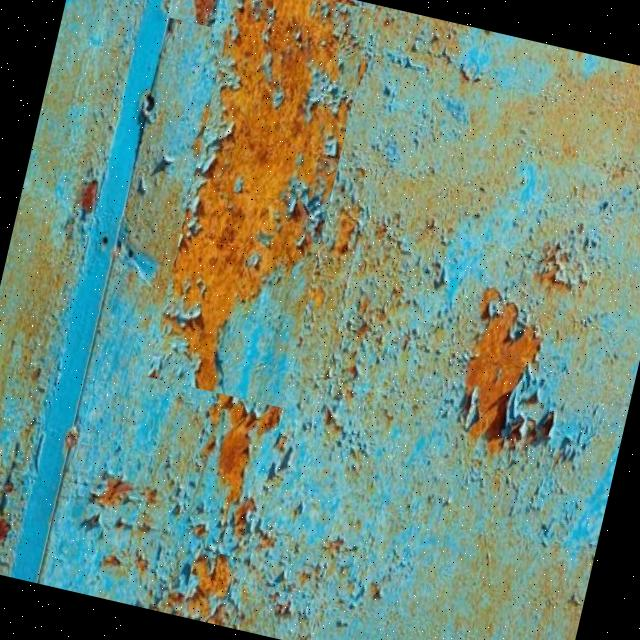Corrosion: (0, 0, 640, 640), (138, 0, 377, 407), (447, 286, 552, 454)
